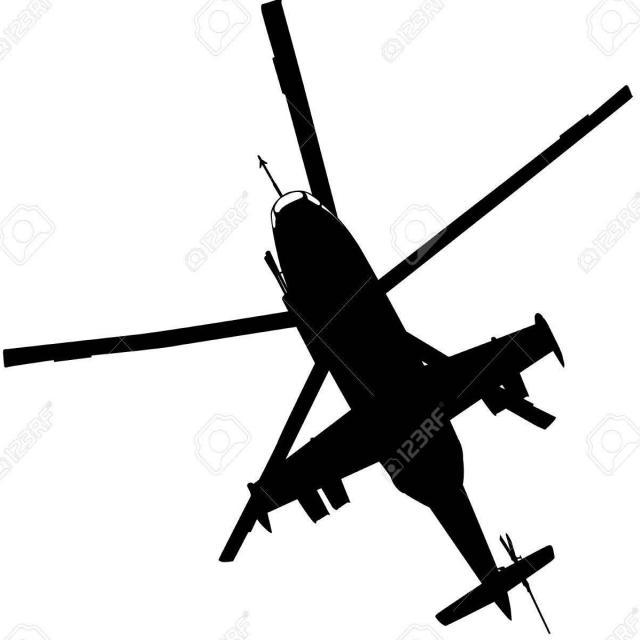helicopter: (2, 1, 632, 631)
